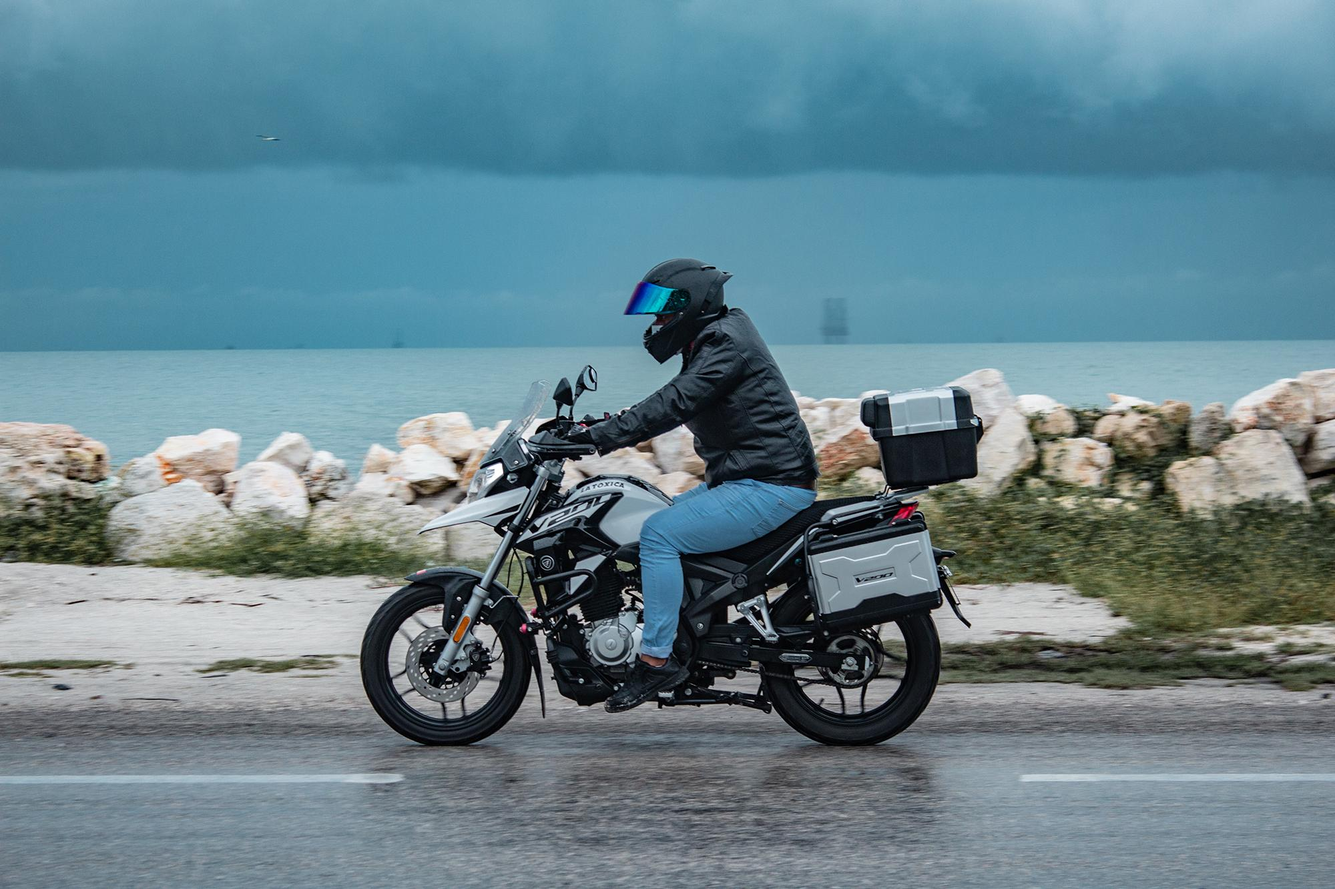helmet: (623, 257, 735, 365)
